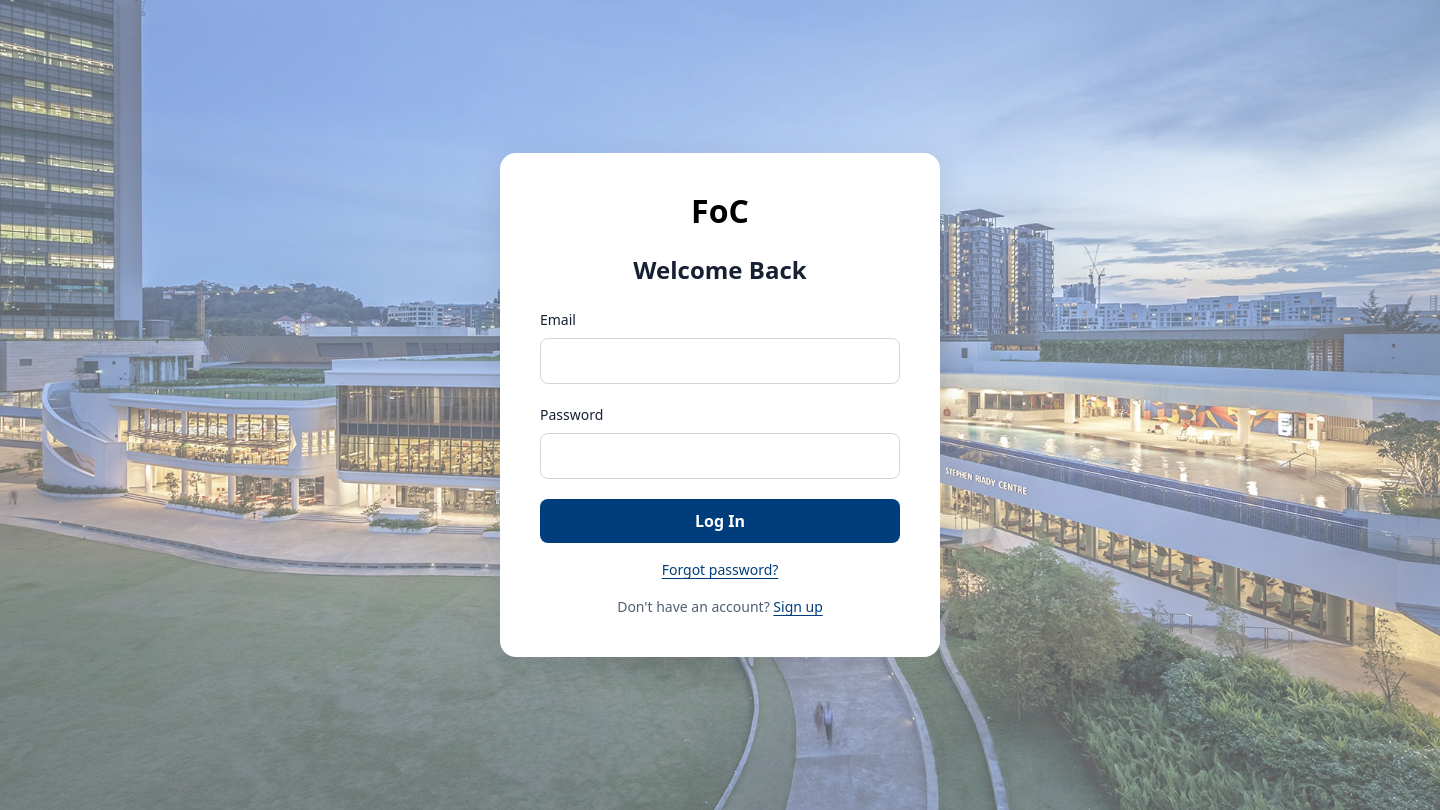
Test: LoginPage › offers verification without establishing a session for an unverified account
Expected: the heading "Welcome Back" is shown, [633, 253, 807, 286]
Type " JAMIE@EXAMPLE.COM " into the field labelled "Email". click: (720, 361)
box: [540, 338, 900, 384]
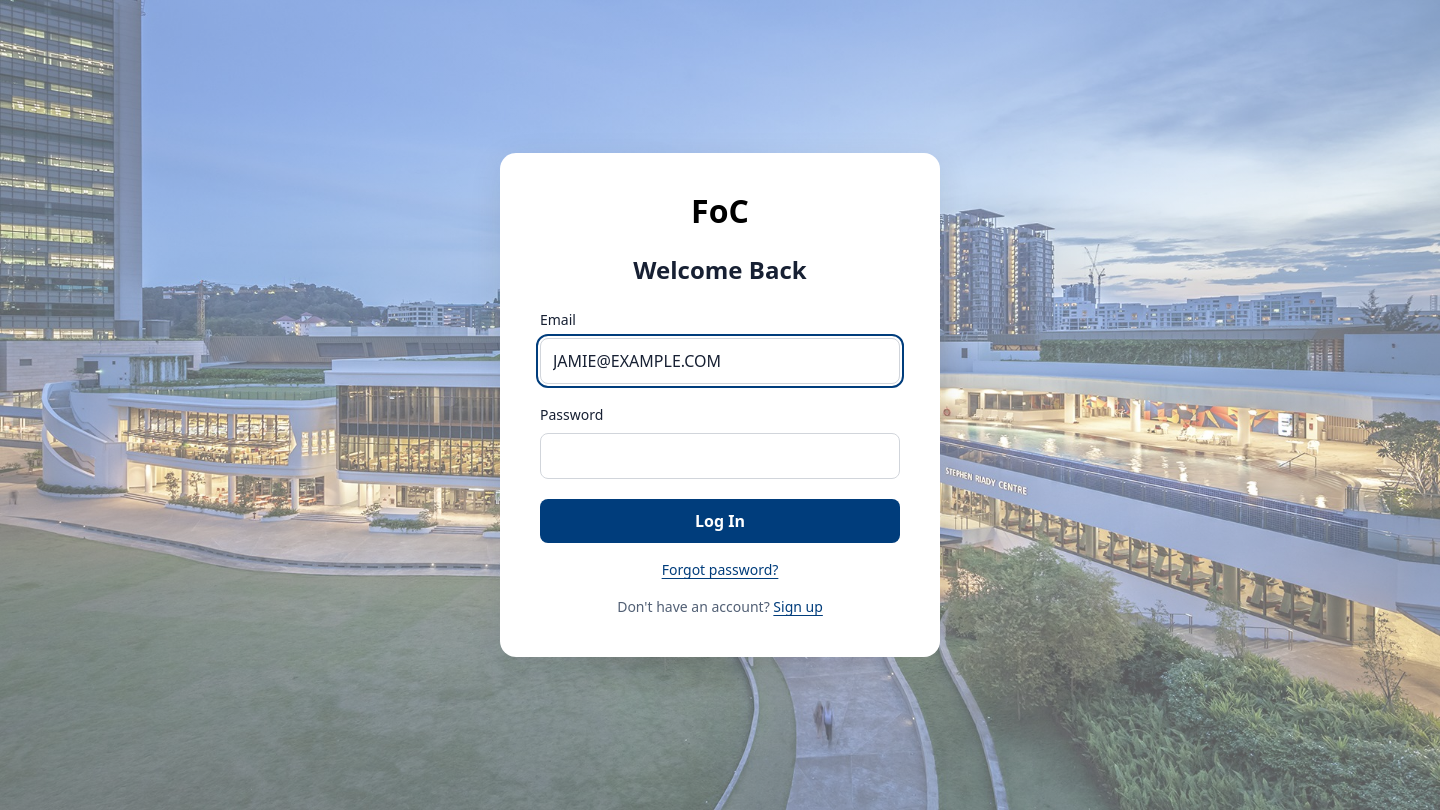
Type " password123 " into the password field labelled "Password". click: (720, 456)
box: [540, 433, 900, 479]
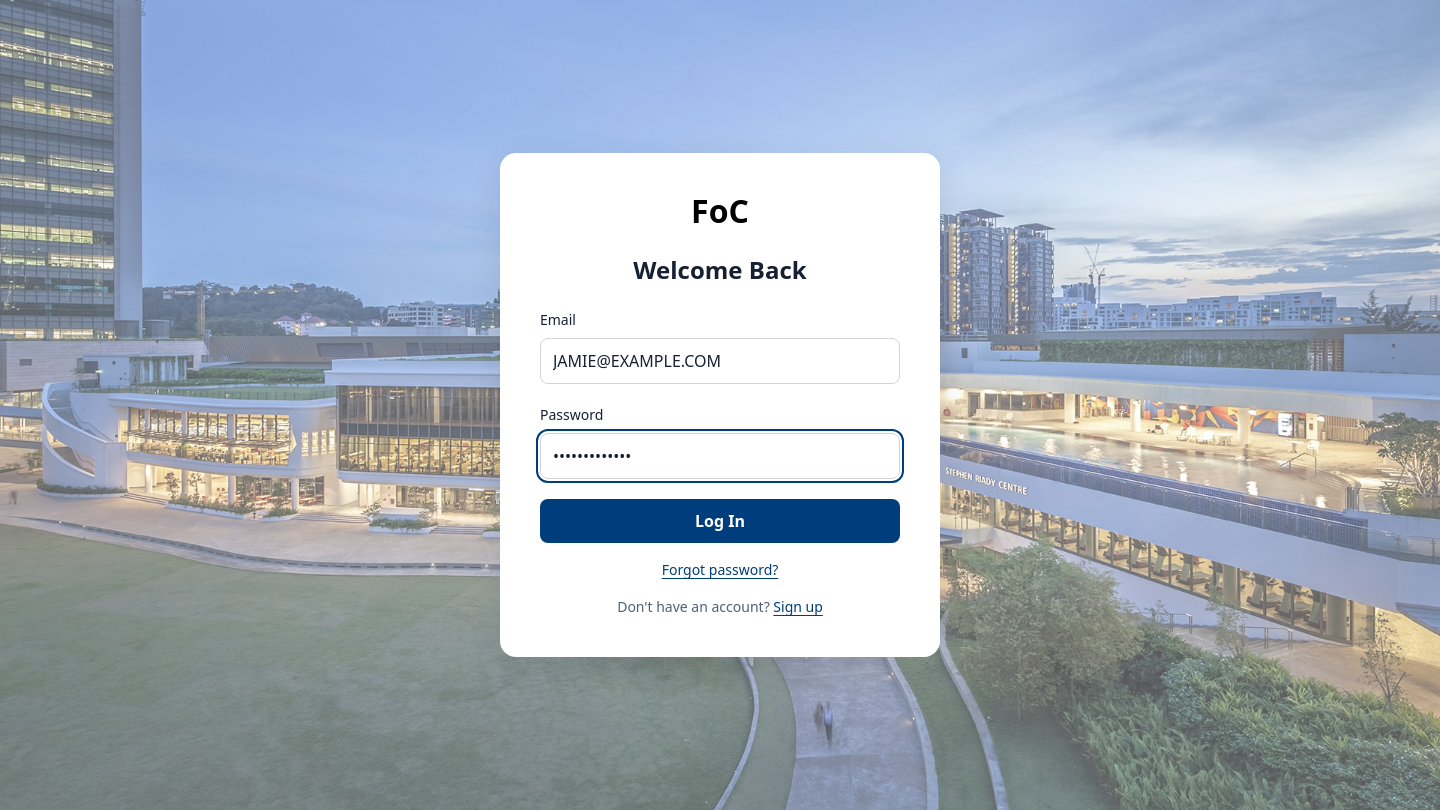
Click the button "Log In". click: click(720, 521)
box: [540, 499, 900, 543]
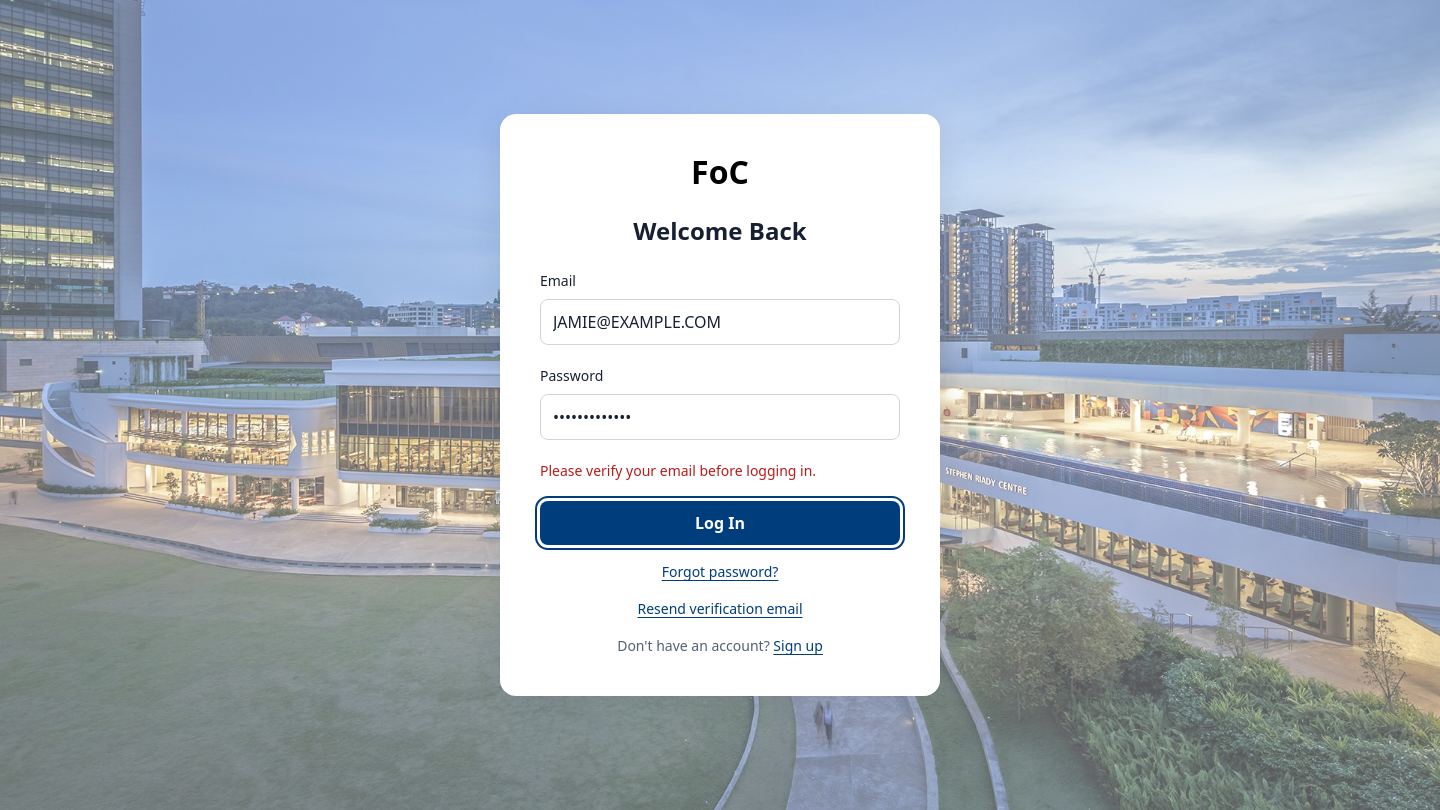
Now the message reads "Please verify your email before logging in.", box [540, 461, 816, 480]
Click the link "Resend verification email". click: click(720, 608)
box: [638, 599, 802, 618]
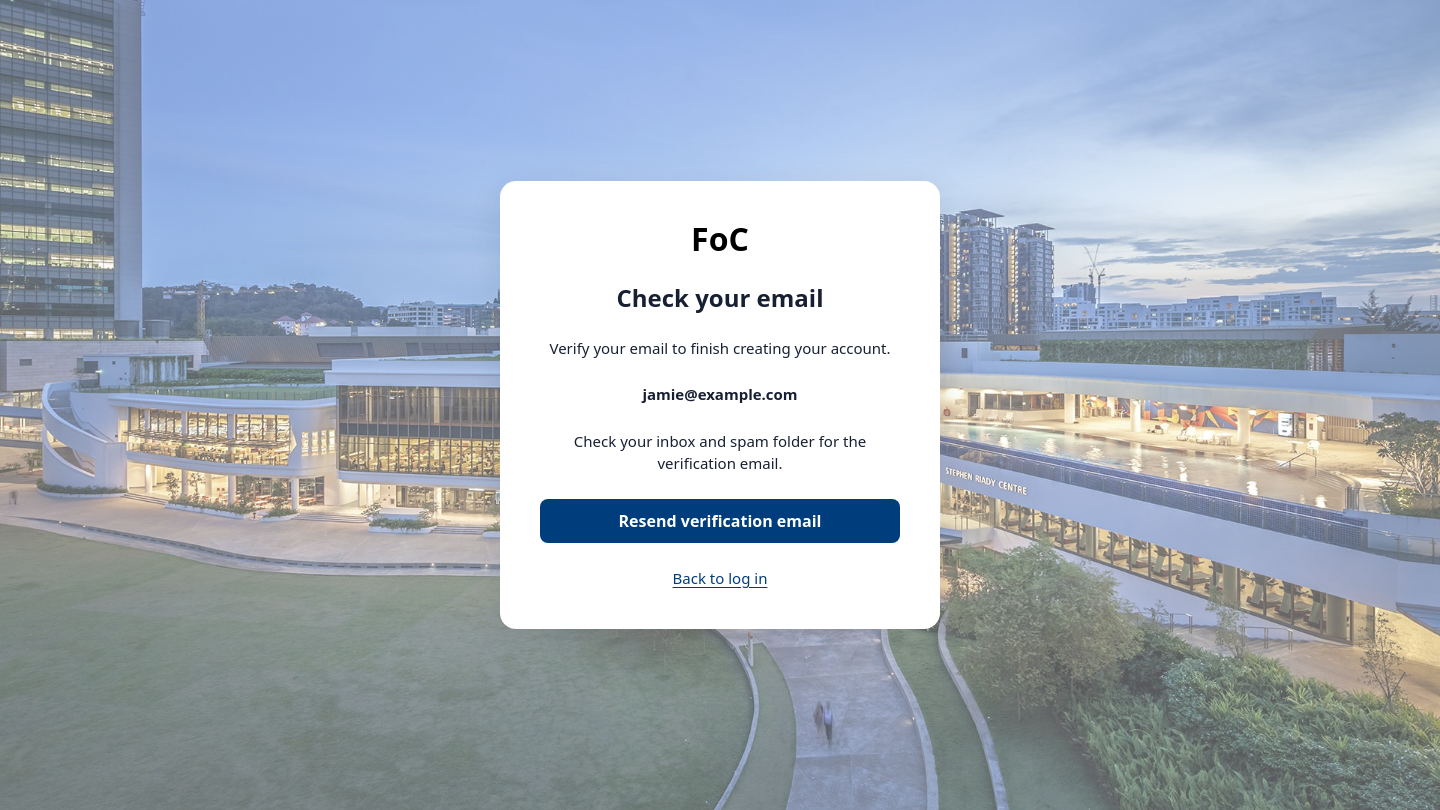
Now the heading "Check your email" is shown, box [616, 280, 824, 314]
